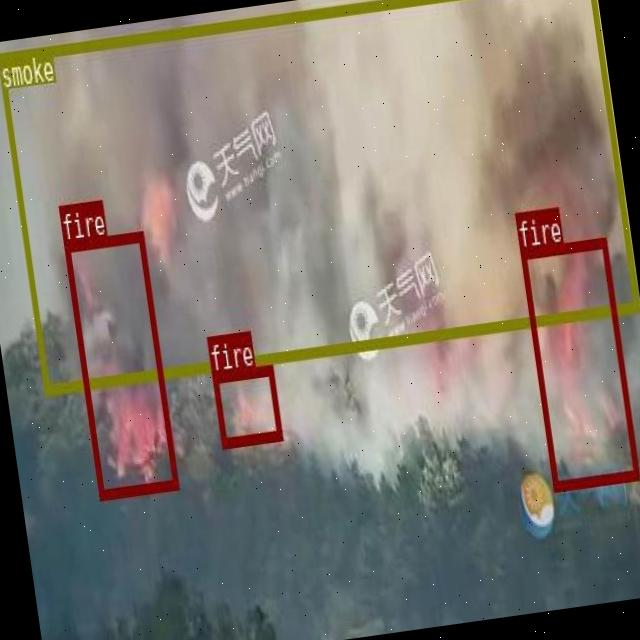fire: (62, 230, 178, 498), (520, 237, 638, 490), (212, 364, 281, 446)
smoke: (0, 0, 638, 394)
